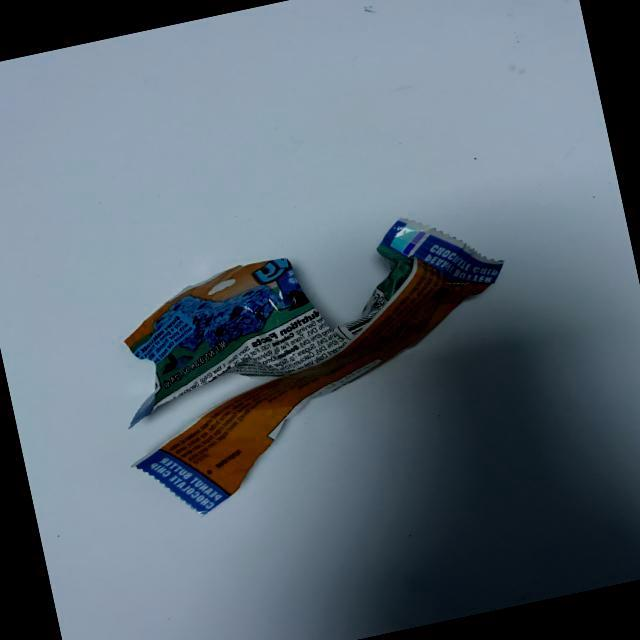plastic: (64, 135, 567, 561)
